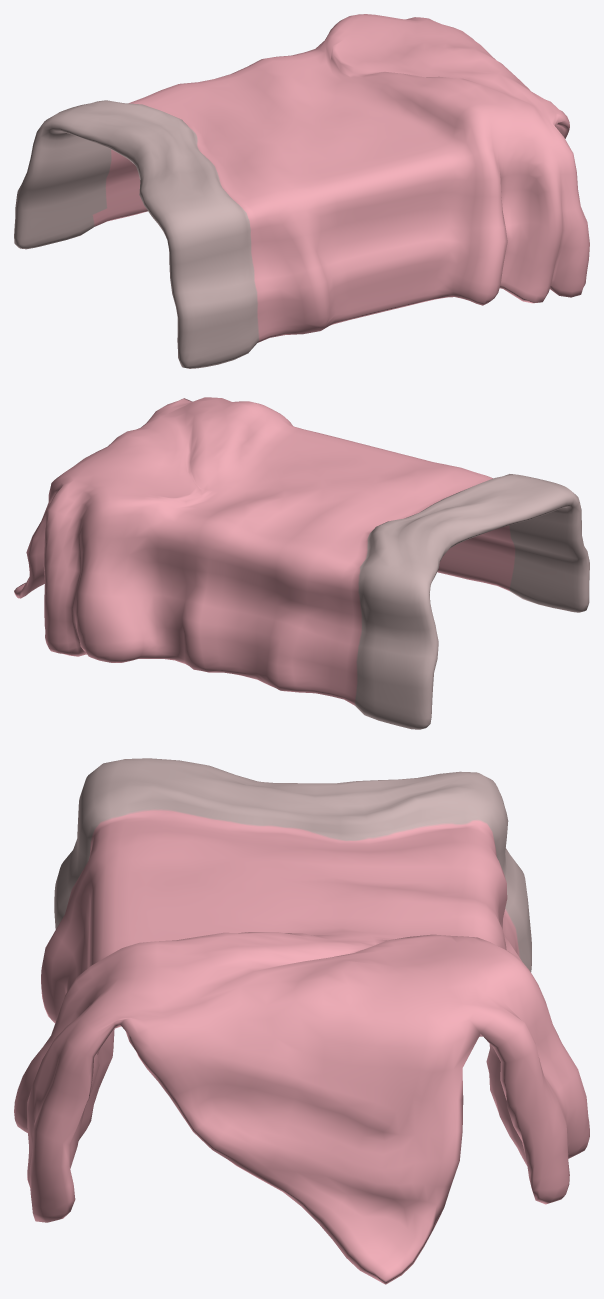
The model's file is quilt.glb.
The picture shows the model from 3 angles, top to bottom: view 1: azimuth 30°, elevation 25°; view 2: azimuth 150°, elevation 25°; view 3: azimuth 270°, elevation 25°; orthographic projection. The views are drawn at different scales.
Parts seen in each view (by area): view 1: Duvet_low; view 2: Duvet_low; view 3: Duvet_low.
Boxes of the visible parts, x1,y1,x2,y2 form: Duvet_low: (14, 14, 589, 368); Duvet_low: (14, 397, 589, 729); Duvet_low: (14, 758, 589, 1284).
Size of the model in its own units: 2.32 by 0.8029 by 1.75.
1 material, 1 textured.
